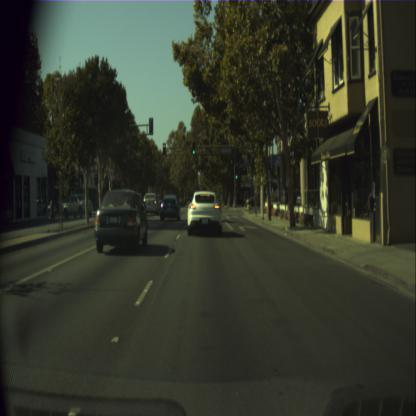Green: (192, 142, 196, 154), (235, 168, 238, 180)
Red: (162, 143, 166, 154)
